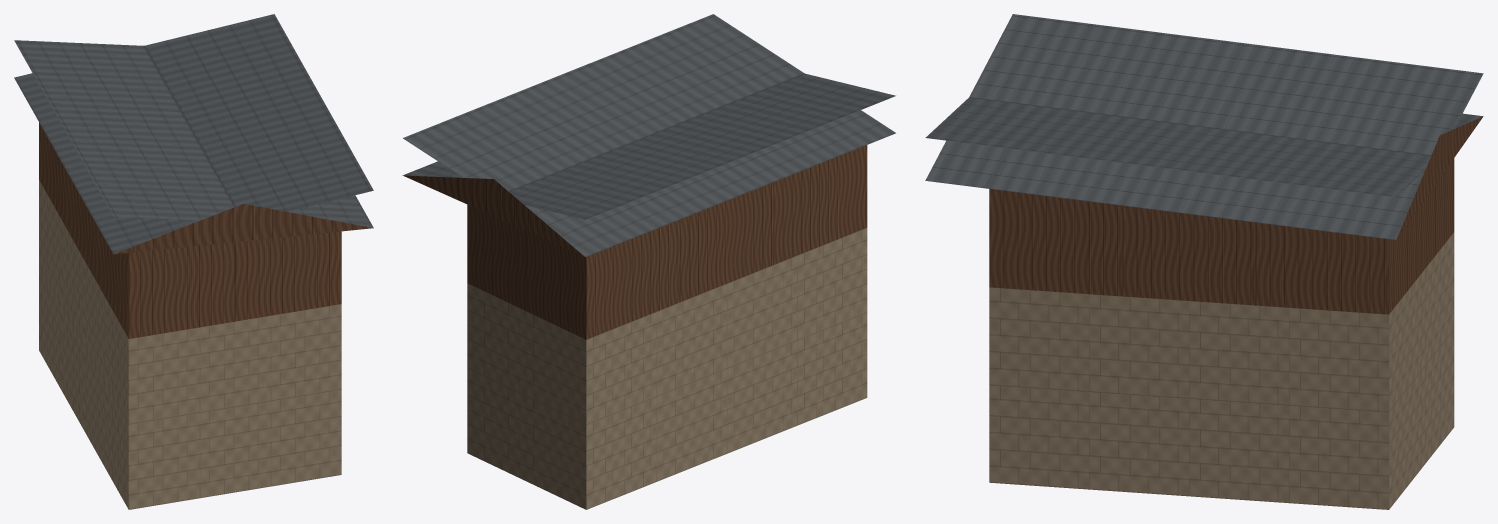
Rendered from bld_c-35_-14_639.gltf.
3 views of the same model, side by side, from view 1: azimuth 30°, elevation 25°; view 2: azimuth 150°, elevation 25°; view 3: azimuth 270°, elevation 25° (orthographic). The views are drawn at different scales.
Visible parts, largest first — view 1: bld_c-35_-14_639; view 2: bld_c-35_-14_639; view 3: bld_c-35_-14_639.
Part boxes in pixels (x1,y1,x2,y2): bld_c-35_-14_639: (14, 14, 373, 509); bld_c-35_-14_639: (402, 14, 895, 509); bld_c-35_-14_639: (925, 14, 1483, 509).
Bounding box in the file's own units: 9.18 × 8.1 × 11.81.
Materials: 4 (4 with a texture image).
